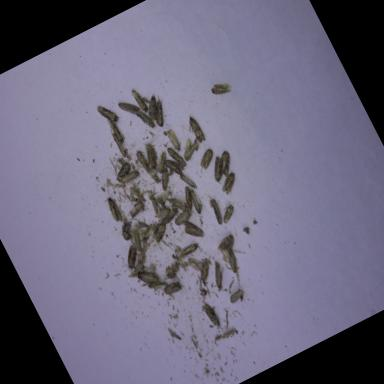pbw: (192, 255, 222, 287), (146, 94, 172, 128), (219, 246, 245, 280), (216, 168, 244, 198), (206, 154, 232, 186), (118, 243, 146, 272), (201, 300, 225, 333), (212, 230, 240, 258), (96, 100, 122, 129), (192, 147, 220, 173), (139, 140, 163, 170), (207, 258, 231, 288), (184, 112, 206, 144), (135, 264, 162, 290), (180, 216, 206, 242), (214, 150, 238, 178), (171, 192, 195, 220), (177, 136, 202, 162), (115, 215, 139, 242), (163, 154, 187, 180), (104, 195, 125, 224), (118, 95, 142, 120), (185, 186, 206, 214), (130, 86, 150, 115), (148, 220, 172, 244), (154, 166, 176, 192), (166, 144, 188, 170), (134, 146, 154, 174), (136, 106, 157, 132), (128, 226, 148, 253), (207, 198, 226, 226), (112, 162, 136, 184), (152, 150, 174, 174), (164, 128, 184, 154), (216, 201, 238, 224), (209, 78, 233, 98), (178, 240, 202, 260), (157, 206, 181, 225), (180, 185, 198, 210), (172, 207, 195, 226), (109, 120, 126, 145), (119, 167, 141, 186), (112, 132, 128, 158), (160, 280, 183, 298), (180, 170, 198, 192), (146, 276, 168, 294), (127, 200, 148, 218), (130, 183, 146, 205), (152, 205, 172, 222), (228, 288, 246, 304), (148, 195, 162, 214), (152, 195, 166, 212), (154, 204, 162, 214)
